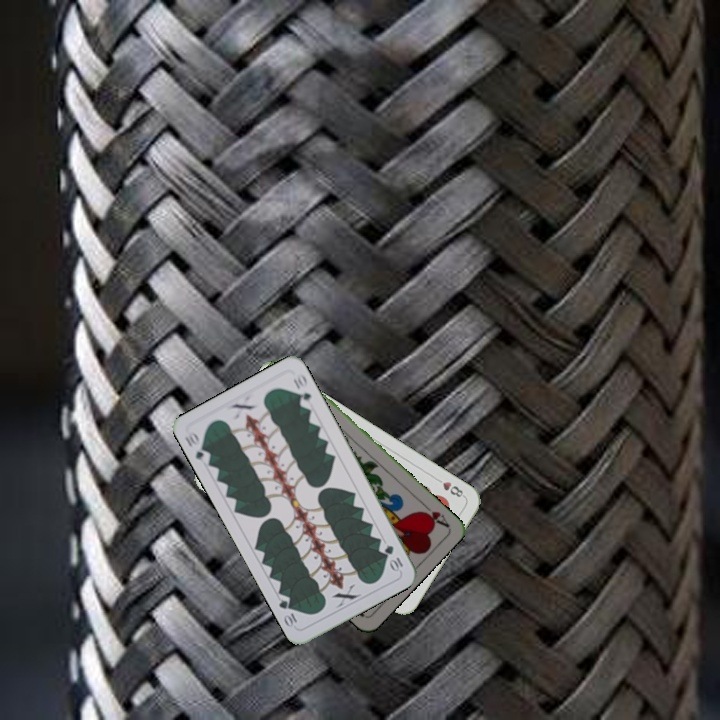G10: (180, 428, 213, 464), (380, 541, 406, 574)
H8: (431, 474, 467, 500)
HA: (417, 498, 451, 530)
